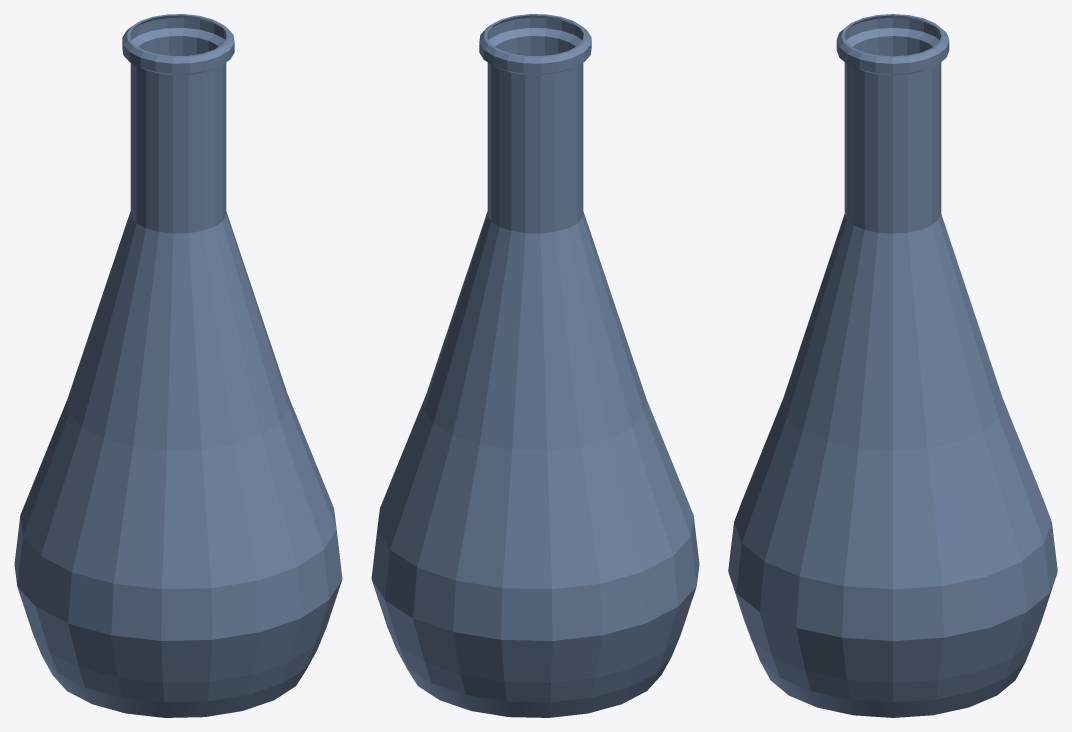
The model's file is FLUID.fbx.
The picture shows the model from 3 angles, left to right: view 1: azimuth 30°, elevation 25°; view 2: azimuth 150°, elevation 25°; view 3: azimuth 270°, elevation 25°; orthographic projection.
Parts seen in each view (by area): view 1: fluidpot; view 2: fluidpot; view 3: fluidpot.
Part boxes in pixels (<box>): fluidpot: <box>14,14,342,717</box>; fluidpot: <box>371,14,699,717</box>; fluidpot: <box>728,14,1057,717</box>.
Size of the model in its own units: 2.36 by 4.96 by 2.36.
